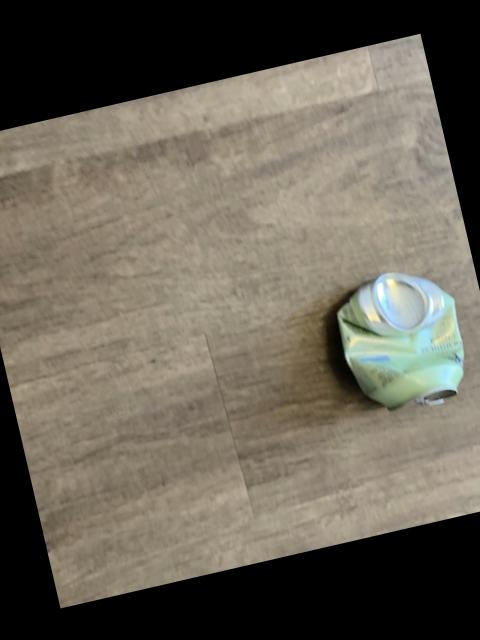metal: (339, 270, 464, 407)
